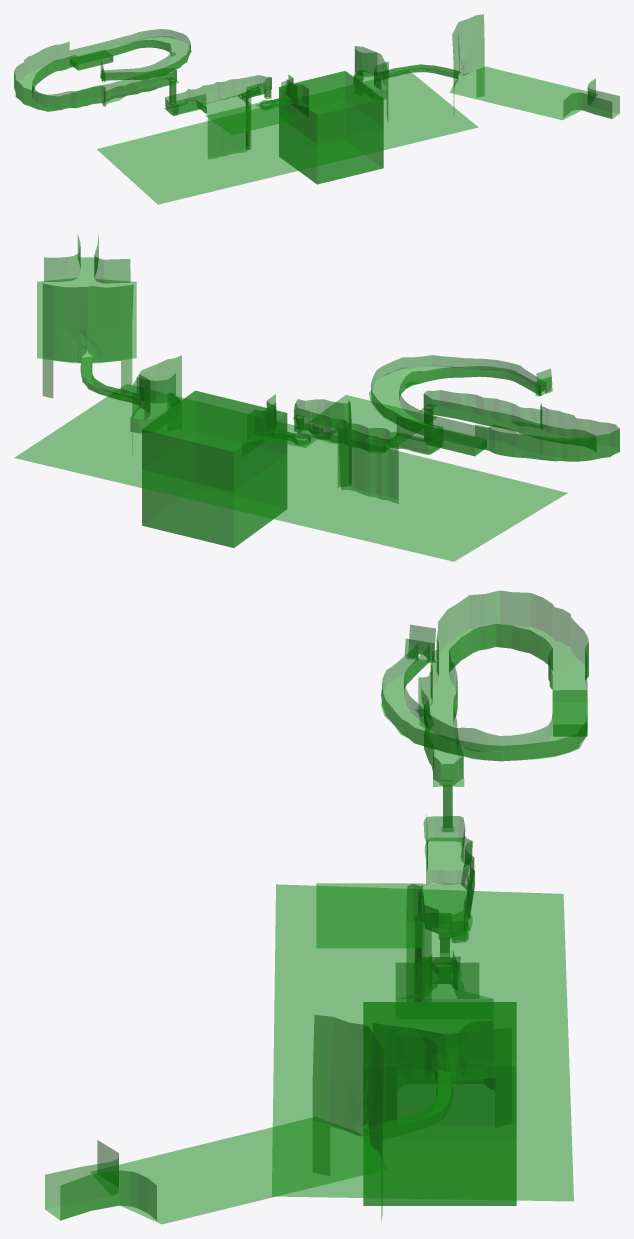
Rendered from hit.obj.
3 views of the same model, one above another, from view 1: azimuth 30°, elevation 25°; view 2: azimuth 150°, elevation 25°; view 3: azimuth 270°, elevation 25° (orthographic). The views are drawn at different scales.
Size of the model in its own units: 900 by 276 by 425.
